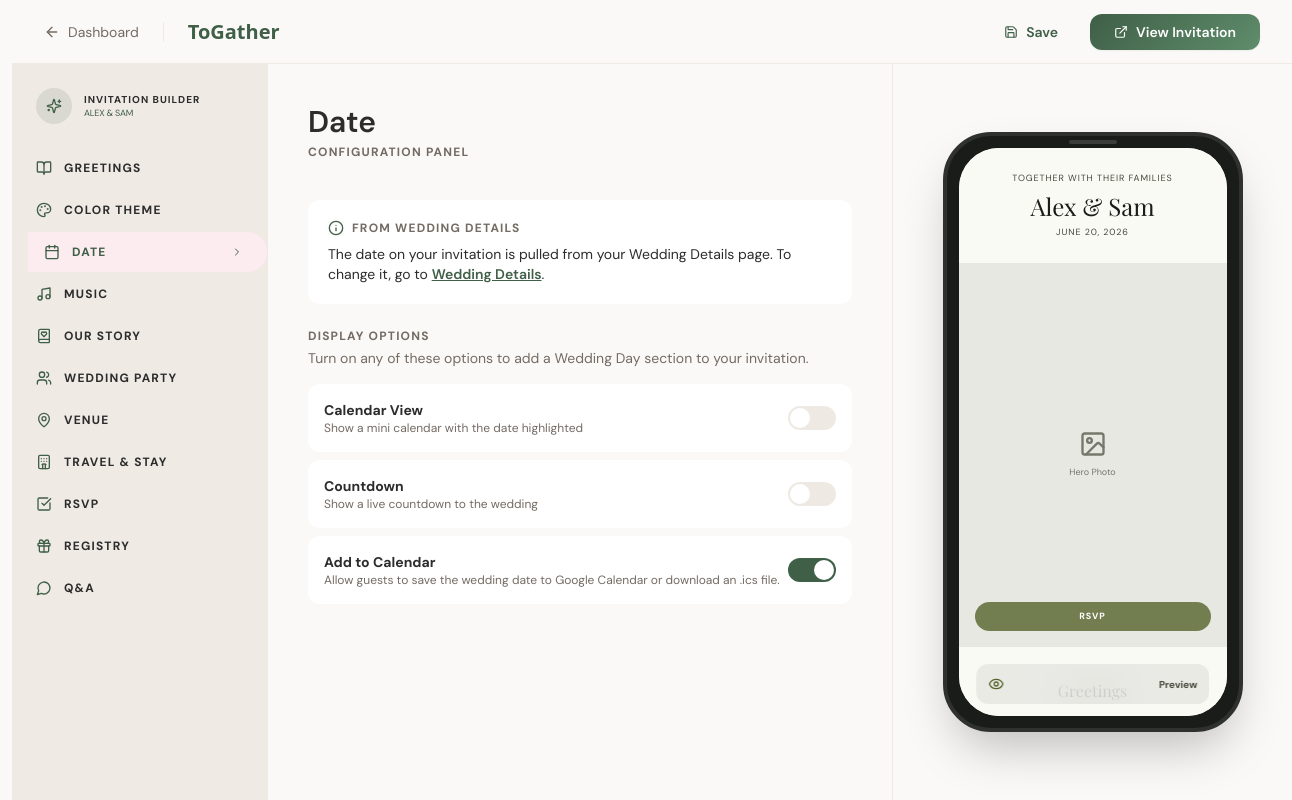
Test: Date tab — Add to Calendar › with Calendar View and Countdown OFF, toggles the Wedding Day section and its placeholder live
The width and height of the screenshot is (1292, 800).
Click the switch named "Show Add to Calendar". click: [812, 570]
box: [788,558,836,582]
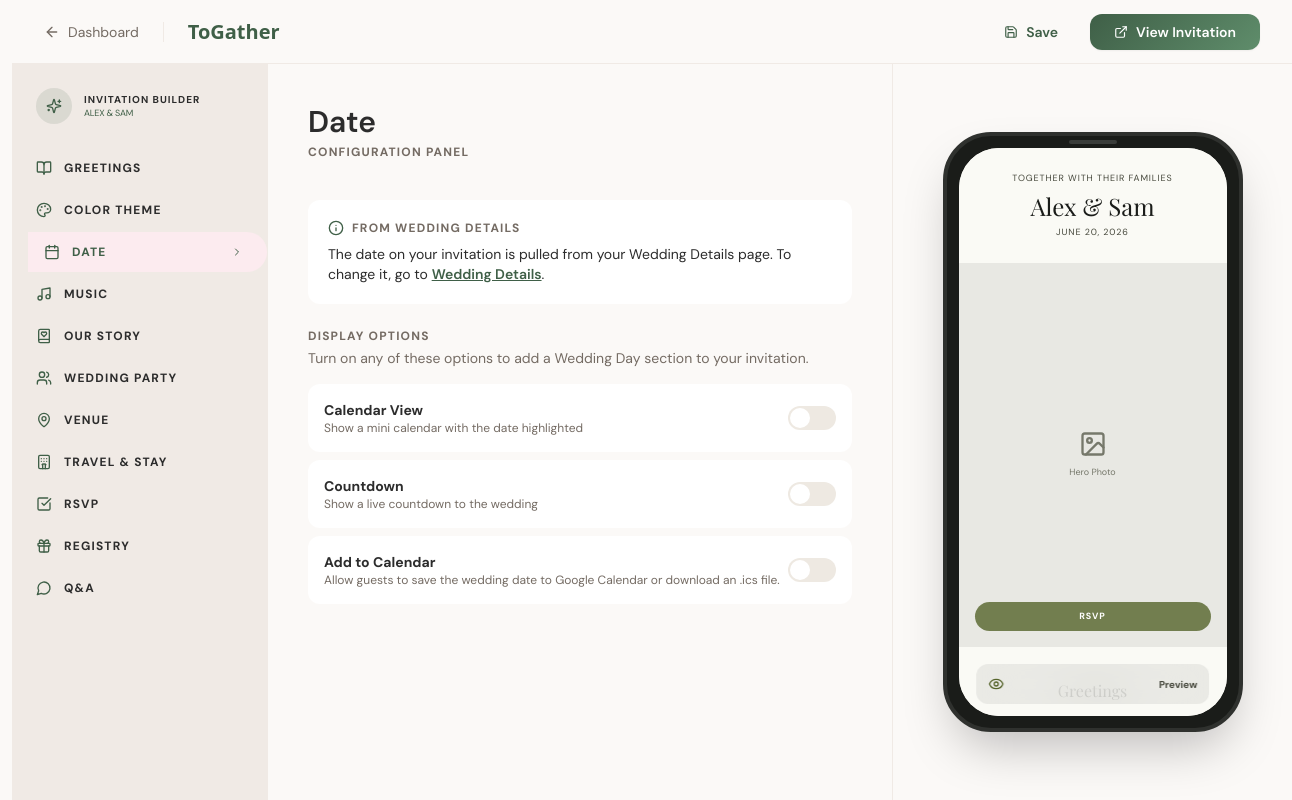
Check: the switch named "Show Add to Calendar" is not checked
Click the switch named "Show Add to Calendar". click: [812, 570]
box: [788,558,836,582]
(page scrolled)
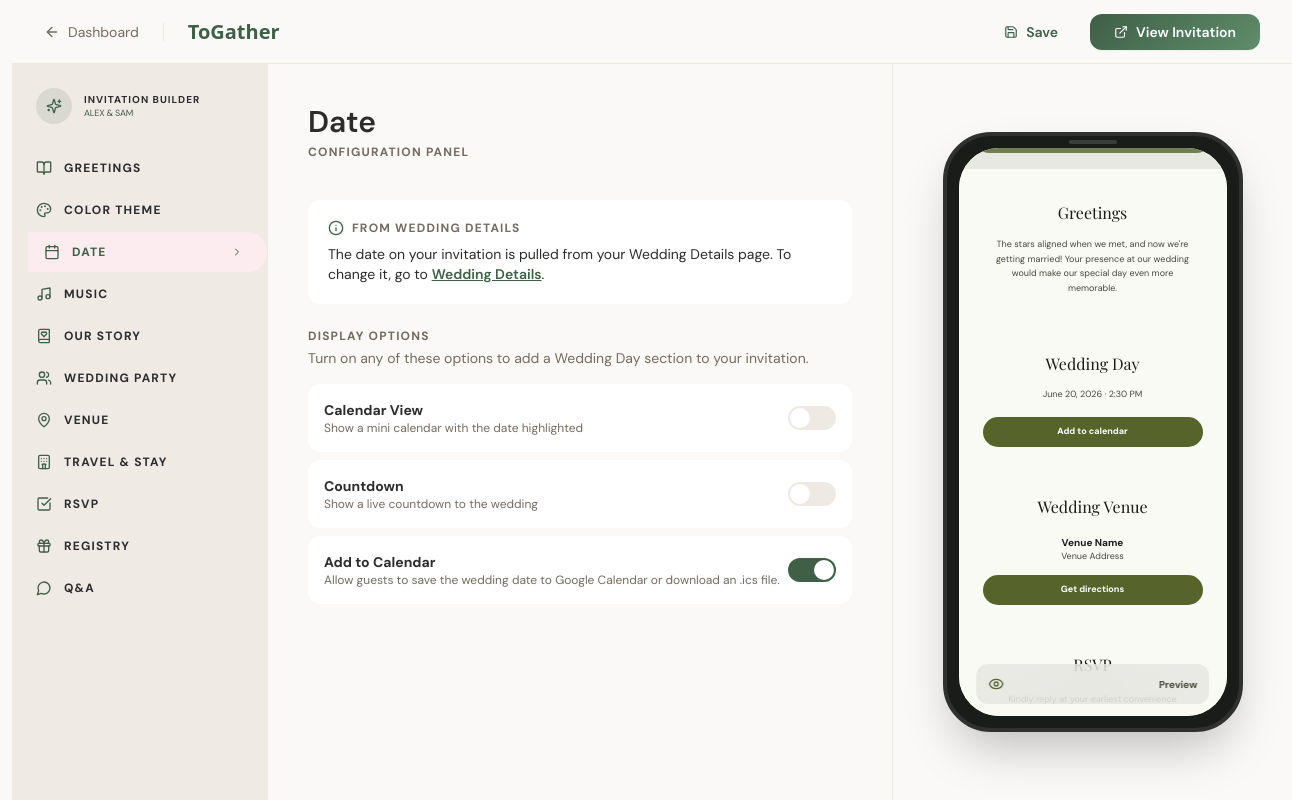
Check: the element showing "Wedding Day June 20, 2026 · 2:30 PM Add to calendar" is shown, box [958,328,1226,470]
Check: the button with test id "preview-add-to-calendar" is shown, box [982,417,1202,446]
